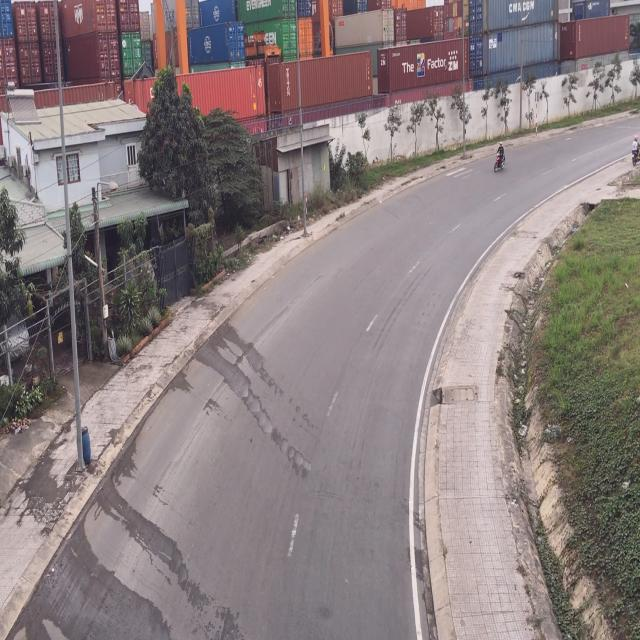motorbike: (492, 140, 506, 173), (631, 133, 640, 166)
